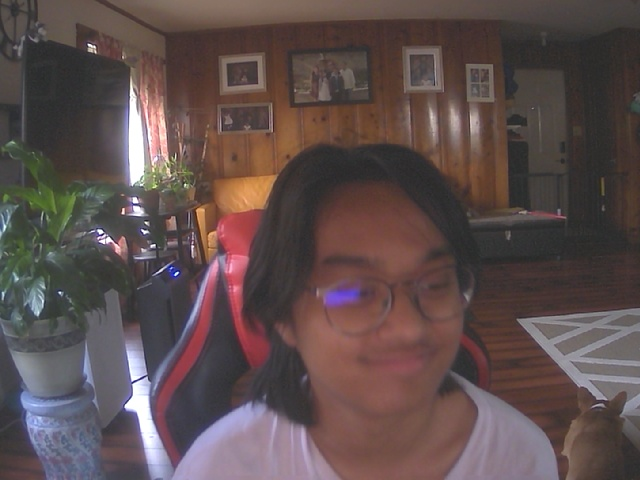happy: (271, 157, 479, 423)
